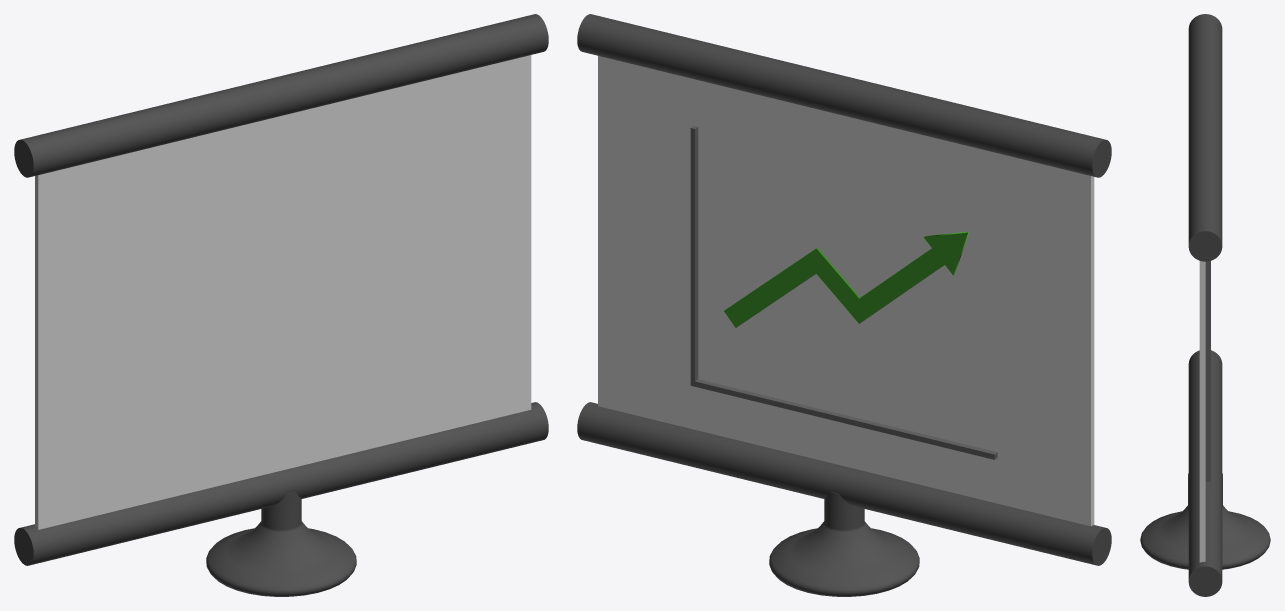
The model's file is data_chart.glb.
The picture shows the model from 3 angles, left to right: view 1: azimuth 30°, elevation 25°; view 2: azimuth 150°, elevation 25°; view 3: azimuth 270°, elevation 25°; orthographic projection. The views are drawn at different scales.
Visible parts, largest first — view 1: Plane_3, Iron.002_2; view 2: Plane_3, Iron.002_2, Chart.001_4, Line_1; view 3: Iron.002_2, Plane_3, Line_1.
Part boxes in pixels (<box>): Plane_3: <box>35,55,531,529</box>; Iron.002_2: <box>14,14,548,596</box>; Plane_3: <box>598,56,1094,526</box>; Iron.002_2: <box>577,14,1111,596</box>; Chart.001_4: <box>724,231,969,327</box>; Line_1: <box>690,126,997,459</box>; Iron.002_2: <box>1140,14,1270,596</box>; Plane_3: <box>1199,261,1205,562</box>; Line_1: <box>1205,261,1210,481</box>.
Size of the model in its own units: 4.2 by 3.8 by 1.07.
